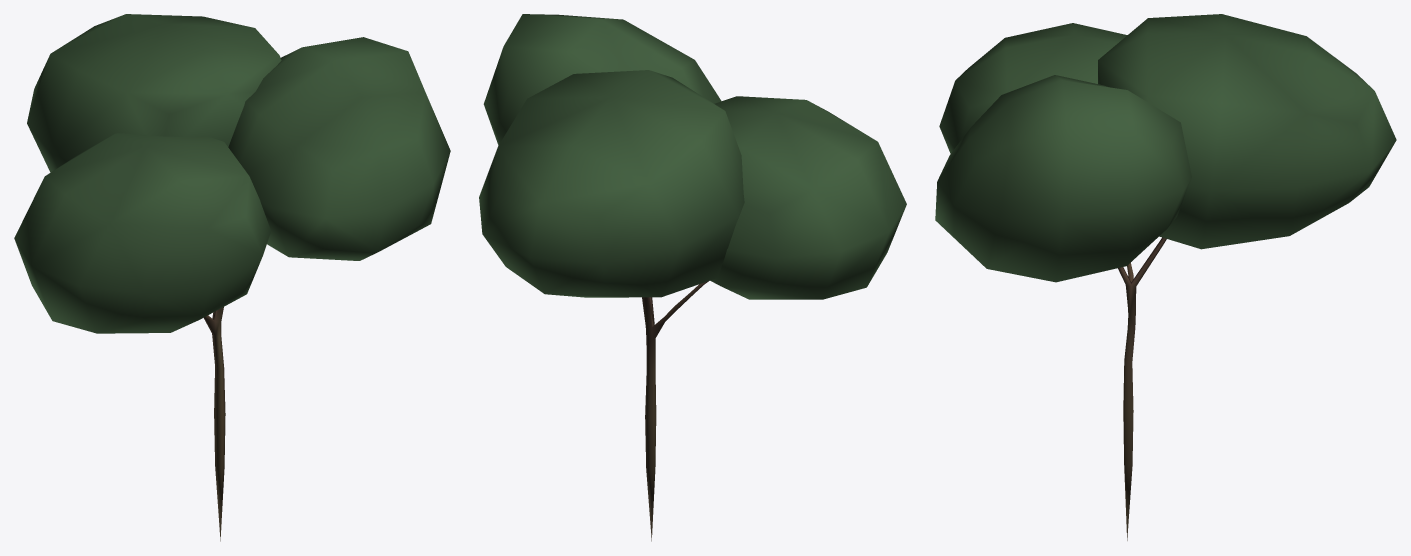
Rendered from trees-broadleaf-trees-round-leafy-tree_v1.glb.
The picture shows the model from 3 angles, left to right: view 1: azimuth 30°, elevation 25°; view 2: azimuth 150°, elevation 25°; view 3: azimuth 270°, elevation 25°; orthographic projection. The views are drawn at different scales.
Visible parts, largest first — view 1: Round Leafy Tree_v1; view 2: Round Leafy Tree_v1; view 3: Round Leafy Tree_v1.
Part boxes in pixels (x1,y1,x2,y2): Round Leafy Tree_v1: (14,14,450,541); Round Leafy Tree_v1: (479,14,906,541); Round Leafy Tree_v1: (935,14,1396,540).
Size of the model in its own units: 8.59 by 10 by 8.29.
